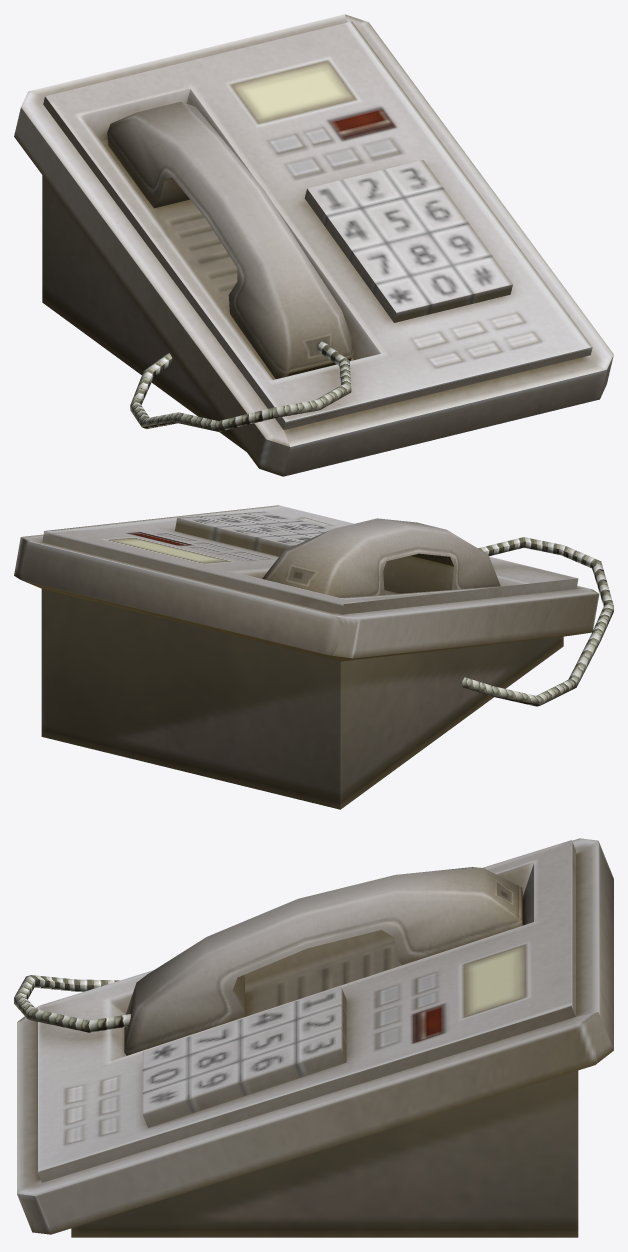
Rendered from TuShuGuan_01_dianhua_01.FBX.
3 views of the same model, one above another, from view 1: azimuth 30°, elevation 25°; view 2: azimuth 150°, elevation 25°; view 3: azimuth 270°, elevation 25° (orthographic). The views are drawn at different scales.
Parts seen in each view (by area): view 1: XiuLiChang_dianhua_01; view 2: XiuLiChang_dianhua_01; view 3: XiuLiChang_dianhua_01.
Part boxes in pixels (x1,y1,x2,y2): XiuLiChang_dianhua_01: [14, 14, 613, 476]; XiuLiChang_dianhua_01: [14, 505, 613, 809]; XiuLiChang_dianhua_01: [14, 838, 613, 1237].
Bounding box in the file's own units: 85.33 × 42.74 × 100.
